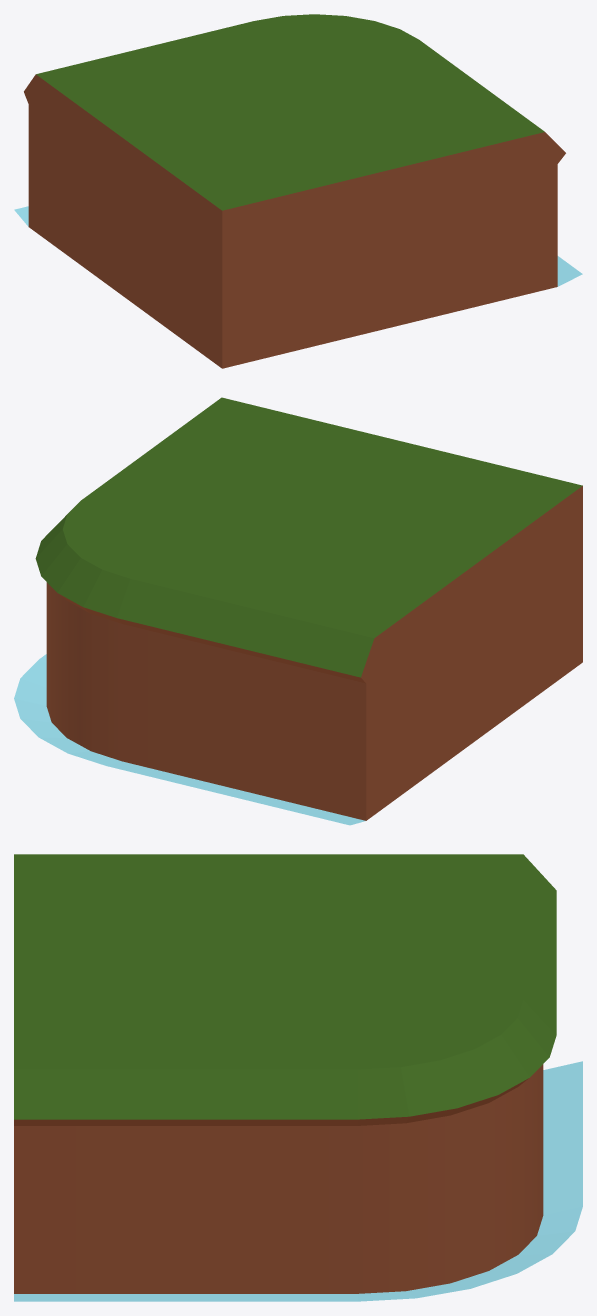
File: tile_island_corner_out.glb
3 views of the same model, one above another, from view 1: azimuth 30°, elevation 25°; view 2: azimuth 150°, elevation 25°; view 3: azimuth 270°, elevation 25° (orthographic). The views are drawn at different scales.
Parts seen in each view (by area): view 1: tile_island_corner_out; view 2: tile_island_corner_out; view 3: tile_island_corner_out.
Boxes of the visible parts, bbox=[...] form: tile_island_corner_out: bbox=[14, 14, 582, 368]; tile_island_corner_out: bbox=[14, 397, 582, 825]; tile_island_corner_out: bbox=[14, 854, 582, 1301].
Bounding box in the file's own units: 0.86 × 0.36 × 0.86.
1 material, 1 textured.
